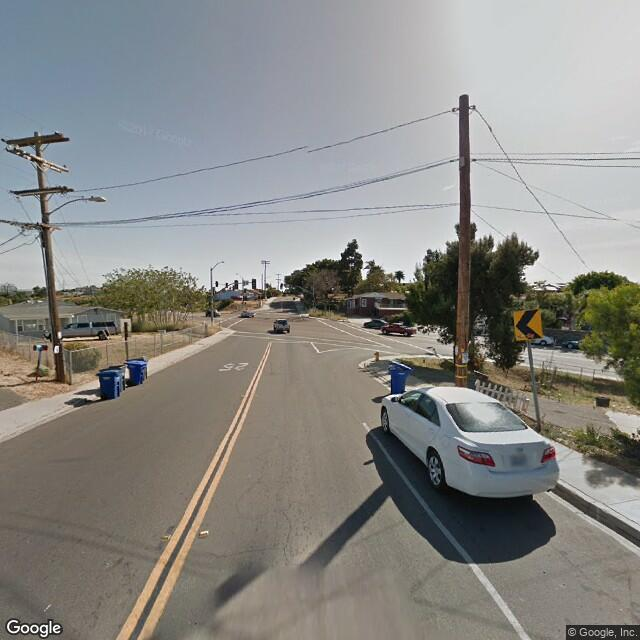litter: (611, 398, 628, 421)
